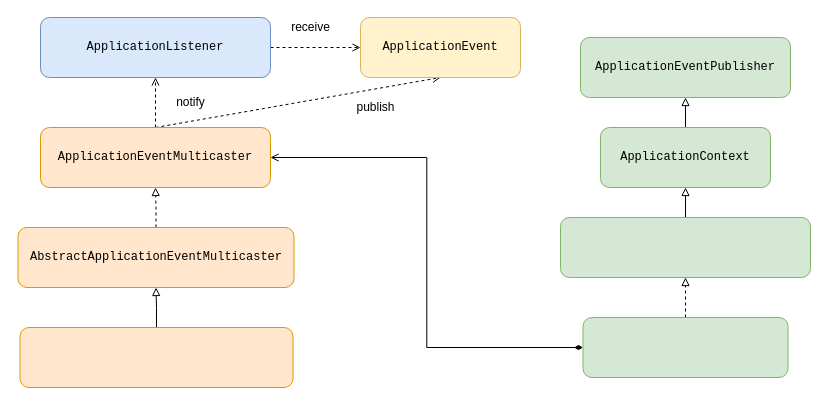
Some shapes in this 828 by 405 pixel diagram are drawn without their labels. Here are the shapes that lost their labels. From the top down, the centre of each, then its label:
(x=685, y=247): ConfigurableApplicationContext
(x=156, y=357): SimpleApplicationEventMulticaster
(x=685, y=347): AbstractApplicationContext
